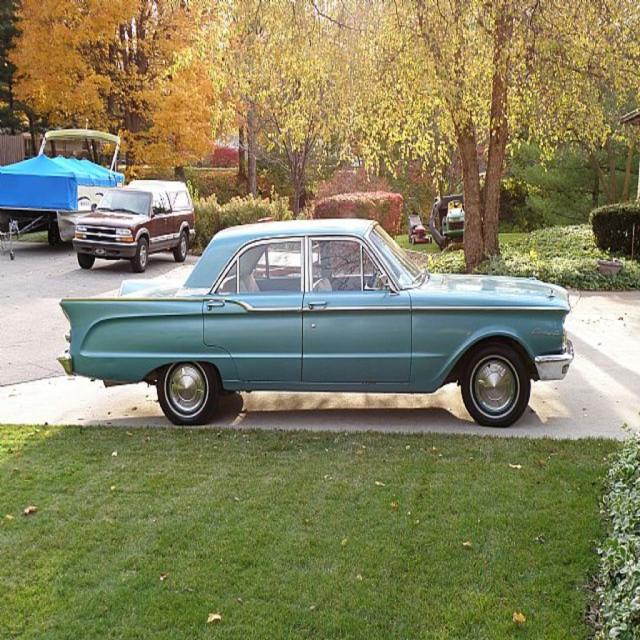car: (55, 217, 573, 431), (73, 175, 197, 276)
